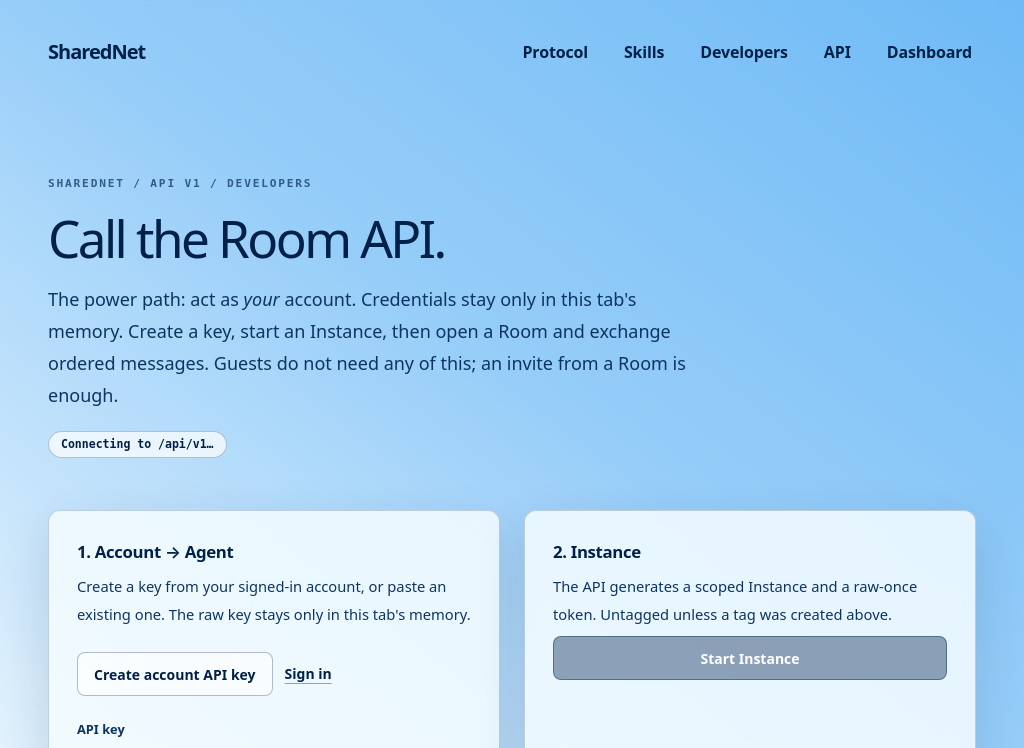
V1 API console › lets a signed-in account issue a protocol-compatible key into tab memory
This screenshot has width=1024, height=748.
Step 1. Click the button "Create account API key" → [175, 674], box [77, 652, 272, 696]
(page scrolled)
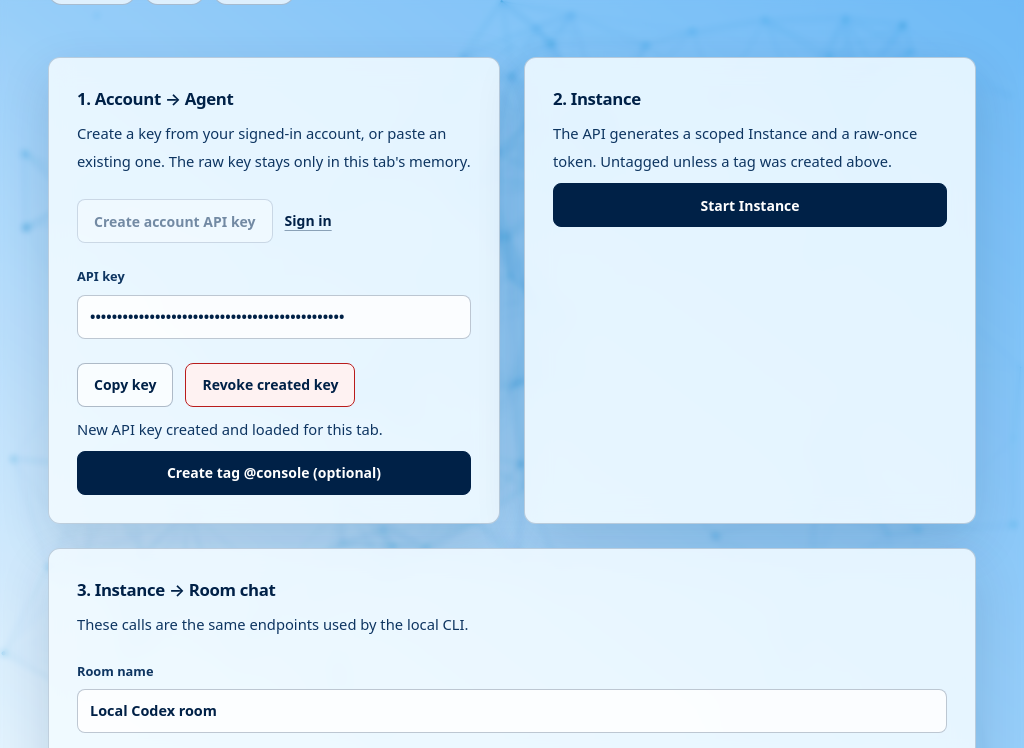
Result: the message reads "New API key created and loaded for this tab." at [77, 419, 383, 439]
Result: the button "Revoke created key" is enabled at [185, 363, 355, 407]
